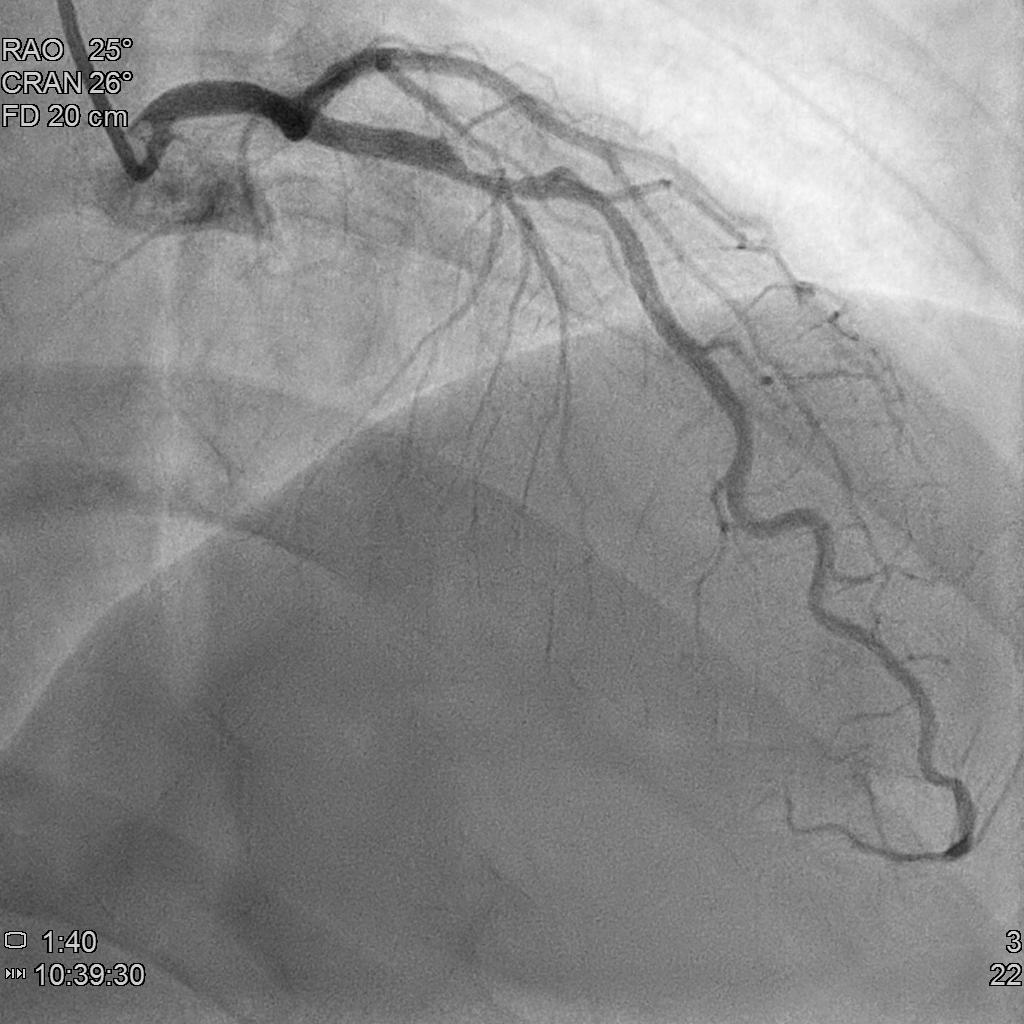block: (421, 136, 550, 230)
